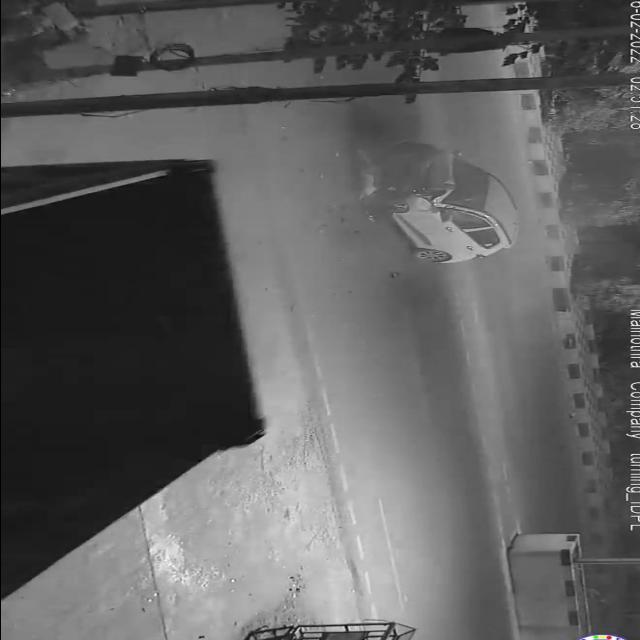accident: (356, 133, 532, 271)
